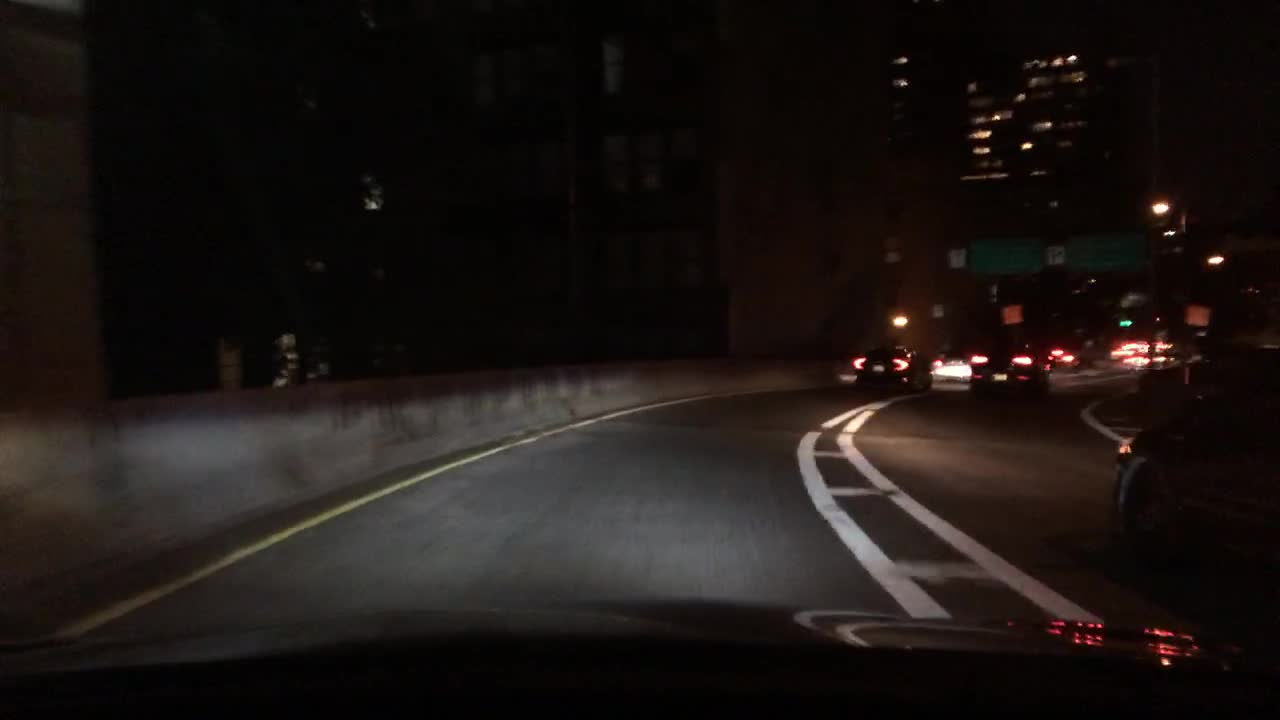car: (1112, 343, 1279, 578), (970, 341, 1052, 392), (852, 344, 934, 389), (934, 350, 973, 384), (1047, 344, 1082, 365)
traffic sign: (1068, 233, 1146, 268), (967, 239, 1040, 274), (1184, 305, 1208, 326), (1002, 304, 1023, 326), (1047, 242, 1067, 265), (946, 248, 964, 266)
